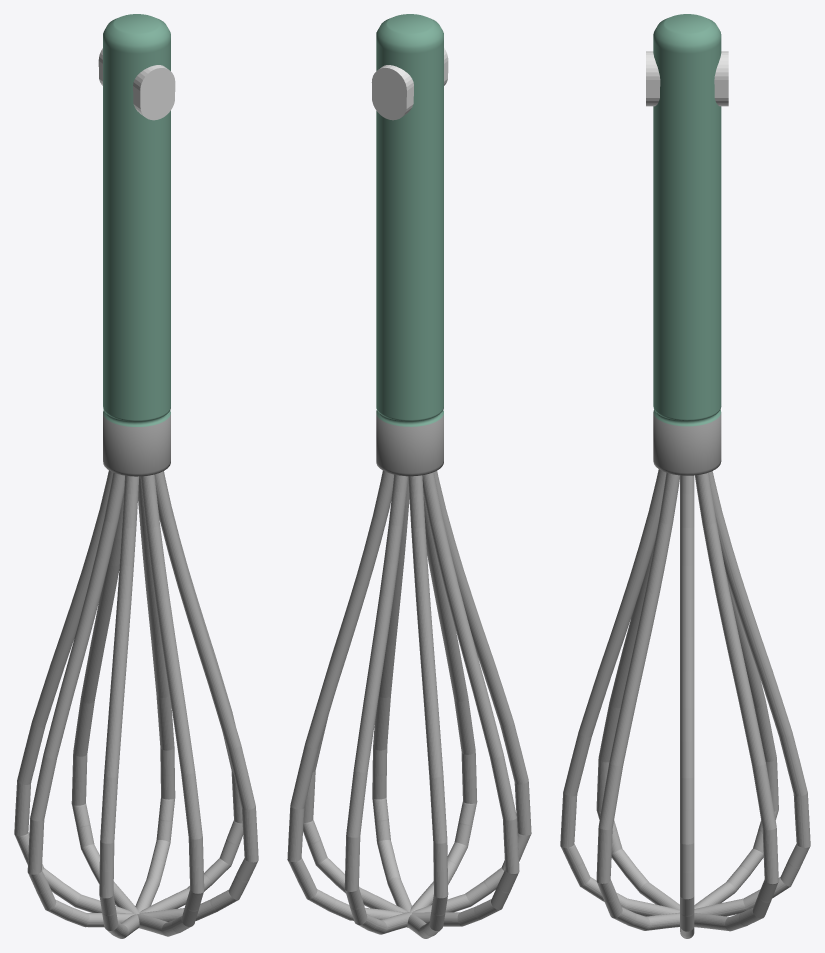
File: kocokan.fbx
The picture shows the model from 3 angles, left to right: view 1: azimuth 30°, elevation 25°; view 2: azimuth 150°, elevation 25°; view 3: azimuth 270°, elevation 25°; orthographic projection.
Parts seen in each view (by area): view 1: Cylinder.005, Cylinder.003, Cylinder.002, Cylinder.004, Cylinder.001, Cylinder.006; view 2: Cylinder.005, Cylinder.004, Cylinder.002, Cylinder.003, Cylinder.001, Cylinder.006; view 3: Cylinder.005, Cylinder.002, Cylinder.004, Cylinder.003, Cylinder.001, Cylinder.006.
Part boxes in pixels (bbox=[...]): Cylinder.005: bbox=[103, 14, 170, 476]; Cylinder.003: bbox=[14, 470, 258, 921]; Cylinder.002: bbox=[71, 474, 204, 936]; Cylinder.004: bbox=[99, 475, 175, 938]; Cylinder.001: bbox=[27, 471, 243, 927]; Cylinder.006: bbox=[98, 48, 175, 120]; Cylinder.005: bbox=[376, 14, 443, 476]; Cylinder.004: bbox=[287, 470, 531, 920]; Cylinder.002: bbox=[344, 474, 477, 934]; Cylinder.003: bbox=[372, 475, 448, 938]; Cylinder.001: bbox=[303, 472, 519, 926]; Cylinder.006: bbox=[371, 48, 448, 120]; Cylinder.005: bbox=[653, 14, 721, 475]; Cylinder.002: bbox=[560, 469, 810, 916]; Cylinder.004: bbox=[596, 472, 778, 931]; Cylinder.003: bbox=[596, 472, 778, 930]; Cylinder.001: bbox=[680, 475, 694, 938]; Cylinder.006: bbox=[646, 51, 728, 106].
Size of the model in its own units: 71.41 by 282 by 70.97.
